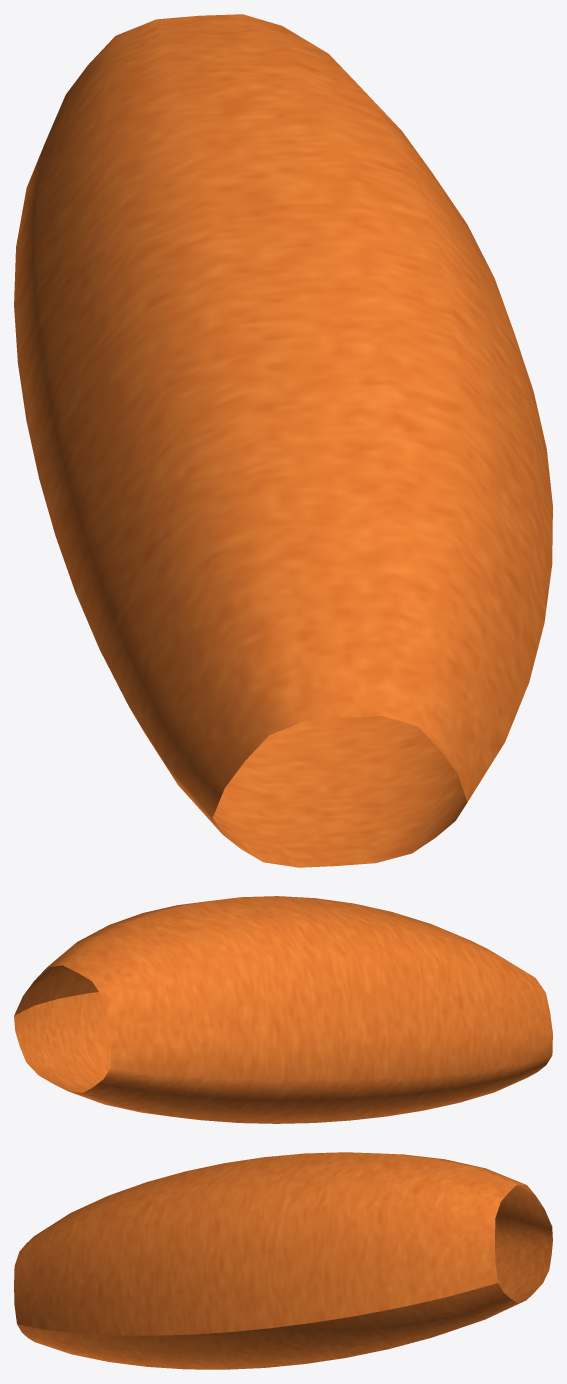
The model's file is 07_Veg_Carrot_FrontLeft.obj.
The picture shows the model from 3 angles, top to bottom: view 1: azimuth 30°, elevation 25°; view 2: azimuth 150°, elevation 25°; view 3: azimuth 270°, elevation 25°; orthographic projection. The views are drawn at different scales.
Visible parts, largest first — view 1: 07_Veg_Carrot_FrontLeft; view 2: 07_Veg_Carrot_FrontLeft; view 3: 07_Veg_Carrot_FrontLeft.
Part boxes in pixels (x1=…): 07_Veg_Carrot_FrontLeft: x1=14, y1=14, x2=552, y2=867; 07_Veg_Carrot_FrontLeft: x1=14, y1=896, x2=552, y2=1123; 07_Veg_Carrot_FrontLeft: x1=14, y1=1152, x2=552, y2=1369.
Size of the model in its own units: 0.0398 by 0.0303 by 0.065.
Materials: 1 (1 with a texture image).
